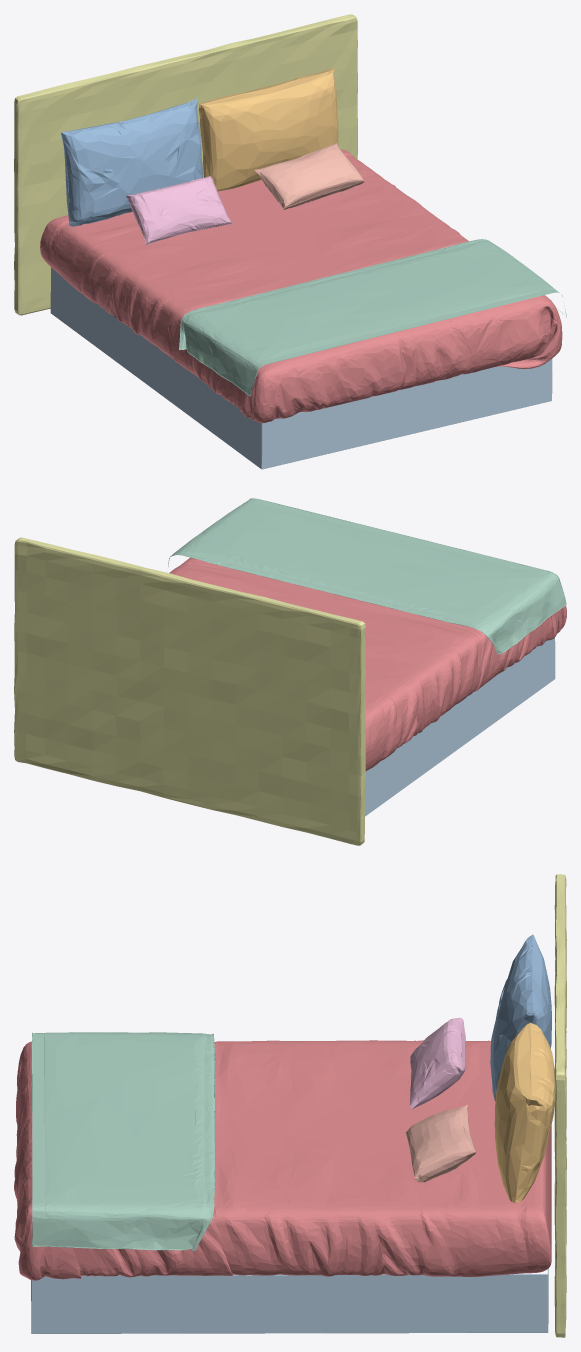
The model's file is 72126_assembly.glb.
The picture shows the model from 3 angles, top to bottom: view 1: azimuth 30°, elevation 25°; view 2: azimuth 150°, elevation 25°; view 3: azimuth 270°, elevation 25°; orthographic projection. The views are drawn at different scales.
Visible parts, largest first — view 1: part_00, part_04, part_05, part_06, part_07, part_02, part_03, part_01; view 2: part_04, part_05, part_00, part_06; view 3: part_00, part_05, part_06, part_02, part_04, part_07, part_01, part_03.
Boxes of the visible parts, x1=… form: part_00: x1=40, y1=149, x2=562, y2=423; part_04: x1=14, y1=14, x2=357, y2=315; part_05: x1=179, y1=239, x2=566, y2=396; part_06: x1=50, y1=267, x2=552, y2=469; part_07: x1=61, y1=98, x2=203, y2=226; part_02: x1=198, y1=68, x2=338, y2=191; part_03: x1=125, y1=176, x2=232, y2=245; part_01: x1=254, y1=143, x2=364, y2=209; part_04: x1=14, y1=537, x2=365, y2=845; part_05: x1=168, y1=498, x2=566, y2=655; part_00: x1=169, y1=557, x2=566, y2=770; part_06: x1=365, y1=638, x2=555, y2=816; part_00: x1=14, y1=1040, x2=551, y2=1280; part_05: x1=32, y1=1032, x2=214, y2=1251; part_06: x1=31, y1=1268, x2=548, y2=1333; part_02: x1=494, y1=1022, x2=554, y2=1203; part_04: x1=554, y1=874, x2=566, y2=1337; part_07: x1=490, y1=934, x2=551, y2=1100; part_01: x1=405, y1=1105, x2=475, y2=1182; part_03: x1=410, y1=1017, x2=465, y2=1109.
Size of the model in its own units: 0.9015 by 0.5613 by 1.03.
